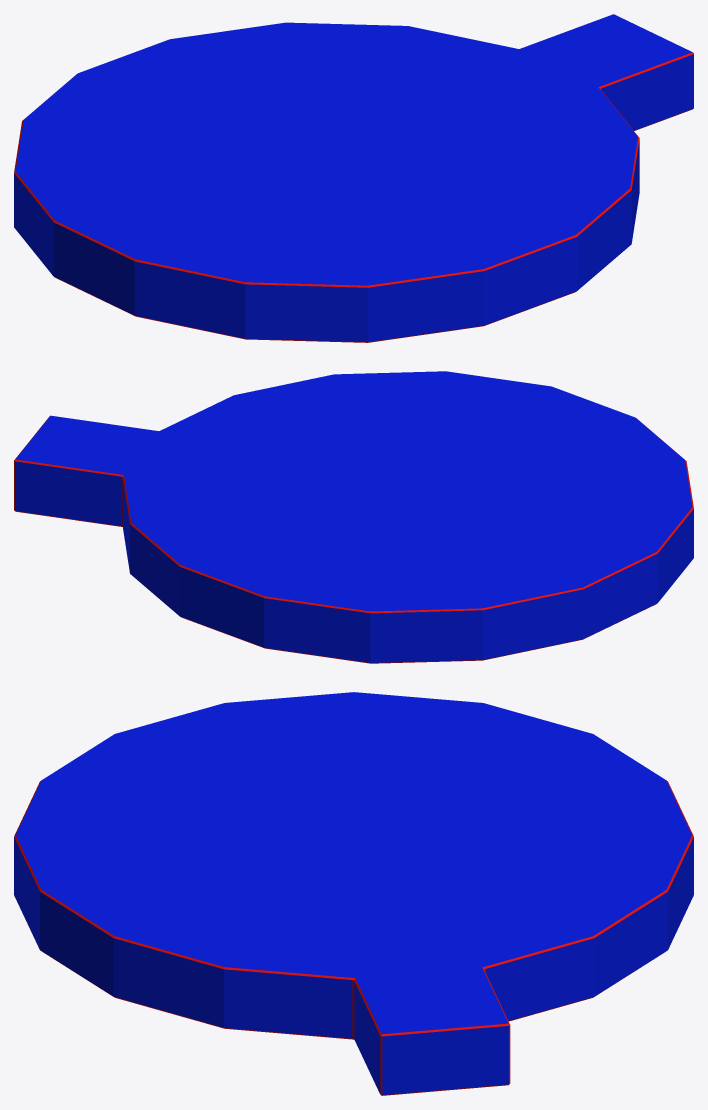
3 views of the same model, one above another, from view 1: azimuth 30°, elevation 25°; view 2: azimuth 150°, elevation 25°; view 3: azimuth 270°, elevation 25° (orthographic). The views are drawn at different scales.
Parts seen in each view (by area): view 1: L8_Cylinder; view 2: L8_Cylinder; view 3: L8_Cylinder.
Boxes of the visible parts, x1,y1,x2,y2 form: L8_Cylinder: (14,14,693,342); L8_Cylinder: (14,371,693,663); L8_Cylinder: (14,692,693,1095).
Size of the model in its own units: 2391 by 200 by 2000.
